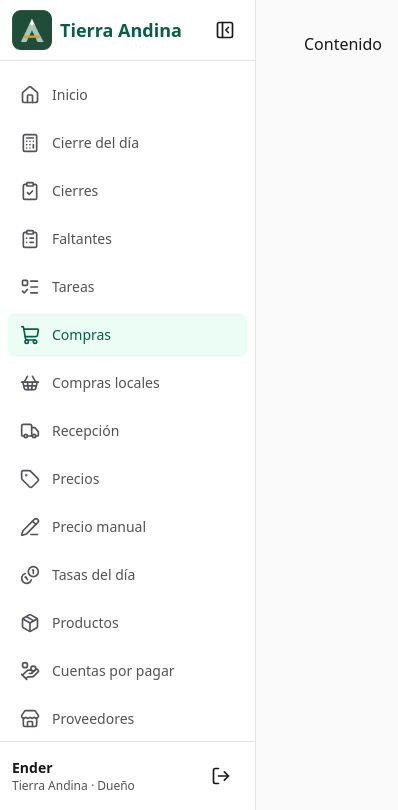
Test: AppShell › collapses to icons with accessible names, and remembers it
This screenshot has width=398, height=810.
Click the button named "Contraer menú": (225, 30) [203, 8, 247, 52]
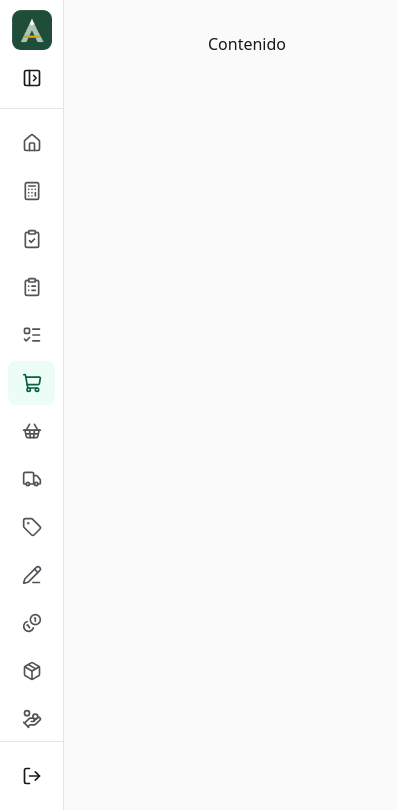
Result: the text with class "truncate" is gone
Result: the button named "Expandir menú" is shown at [10, 56, 54, 100]
